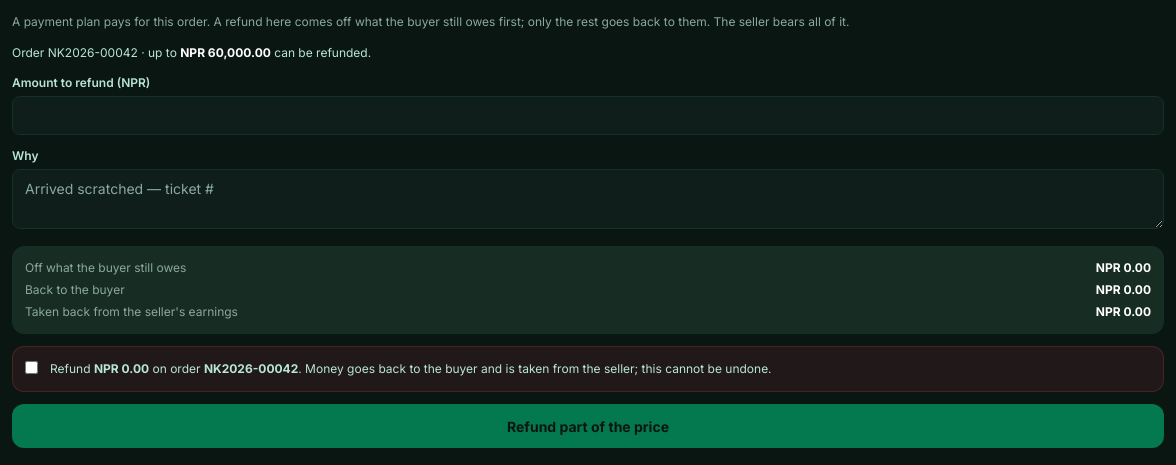
Test: refunding part of a plan order › will not offer more than can be refunded
This screenshot has width=1176, height=465.
Expected: the text "Order NK2026-00042 · up to NPR 60,000.00 can be refunded." is shown, [12,45,371,60]
In the number field labelled "Amount to refund": (588, 116) [12,96,1164,135], type "60001"
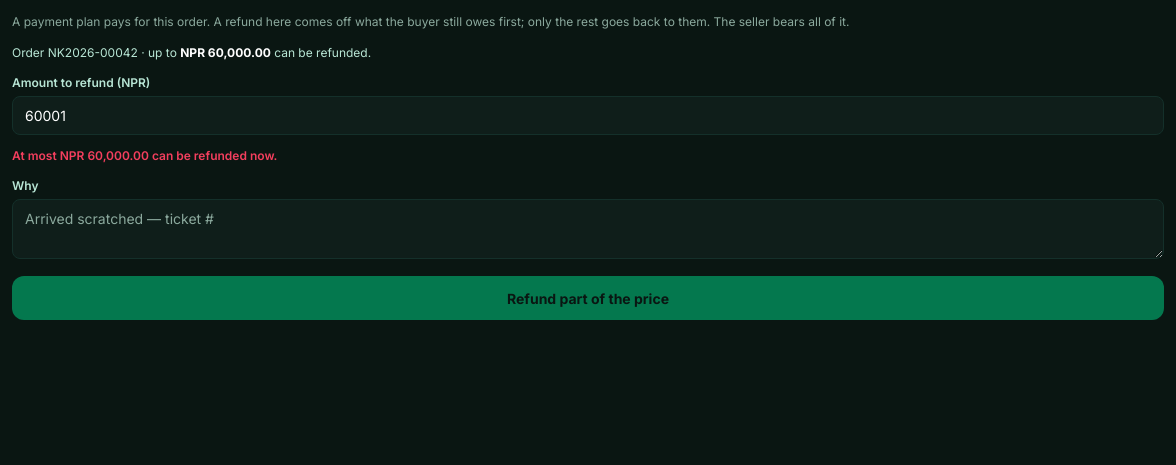
Expected: the button "Refund part of the price" is disabled, [12,276,1164,320]
Now the text "At most NPR 60,000.00 can be refunded now." is shown, box [12,148,277,163]
